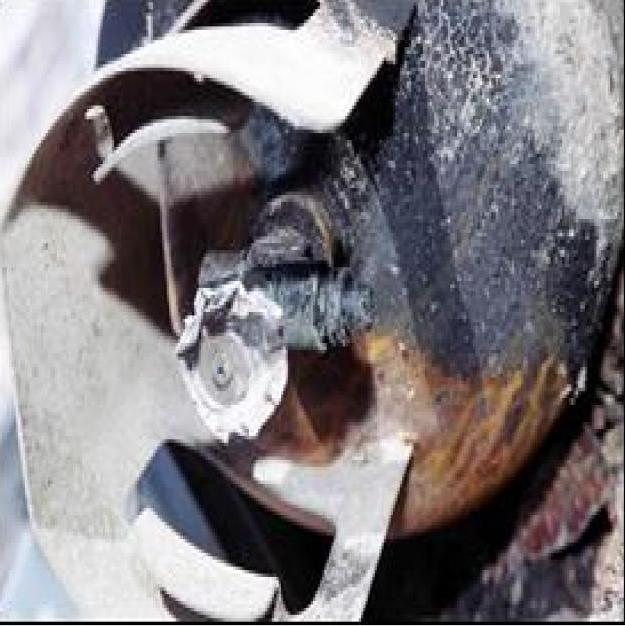cylinder: (1, 0, 625, 626)
